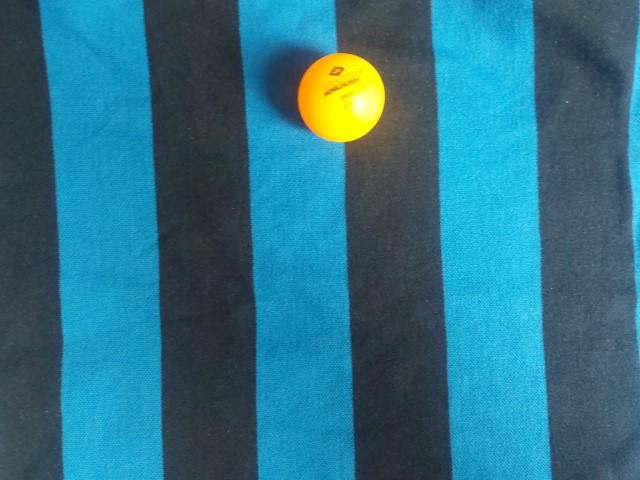oball: (293, 47, 395, 145)
